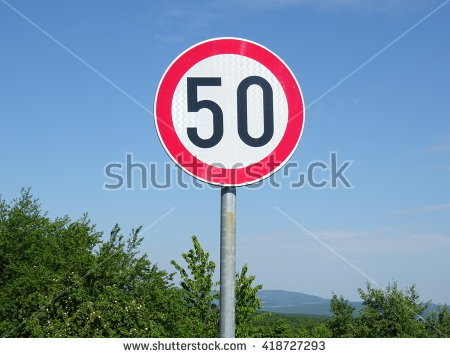Speed_limit_50km: (156, 36, 305, 191)
